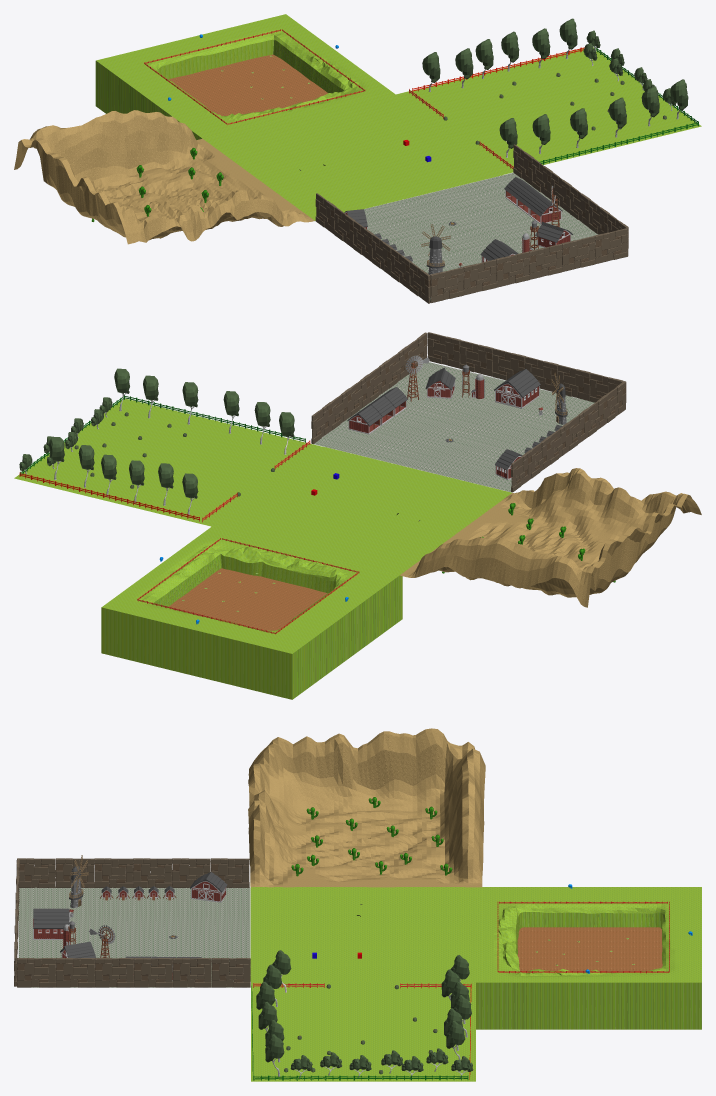
3 views of the same model, one above another, from view 1: azimuth 30°, elevation 25°; view 2: azimuth 150°, elevation 25°; view 3: azimuth 270°, elevation 25° (orthographic). The views are drawn at different scales.
Parts seen in each view (by area): view 1: dessert, ground, forest, lakeGround, villageWalls, village, lake, Buildings, Fence.001, Fence.000; view 2: lakeGround, ground, dessert, forest, village, villageWalls, lake, Buildings, Fence.000, Fence.001; view 3: dessert, lakeGround, ground, forest, villageWalls, village, lake, Buildings, Fence.002.
Boxes of the visible parts, box(x1,y1,x2,y2) form: dessert: box(14, 110, 314, 244); ground: box(203, 93, 502, 220); forest: box(394, 47, 701, 174); lakeGround: box(95, 14, 395, 139); villageWalls: box(315, 144, 628, 303); village: box(343, 173, 598, 300); lake: box(168, 54, 327, 115); Buildings: box(344, 177, 572, 274); Fence.001: box(539, 121, 698, 164); Fence.000: box(412, 47, 584, 91); lakeGround: box(101, 526, 402, 699); ground: box(211, 446, 511, 575); dessert: box(400, 468, 701, 607); forest: box(14, 398, 322, 526); village: box(314, 362, 618, 492); villageWalls: box(311, 332, 626, 492); lake: box(168, 568, 327, 630); Buildings: box(347, 355, 567, 479); Fence.000: box(19, 472, 199, 521); Fence.001: box(124, 395, 305, 442); dessert: box(248, 728, 485, 887); lakeGround: box(476, 887, 701, 1029); ground: box(250, 887, 482, 981); forest: box(251, 981, 475, 1081); villageWalls: box(14, 858, 250, 987); village: box(18, 887, 250, 987); lake: box(517, 927, 662, 972); Buildings: box(33, 855, 227, 980); Fence.002: box(254, 1075, 468, 1080).
Bounding box in the file's own units: 303 × 54 × 304.
287 materials, 19 textured.
